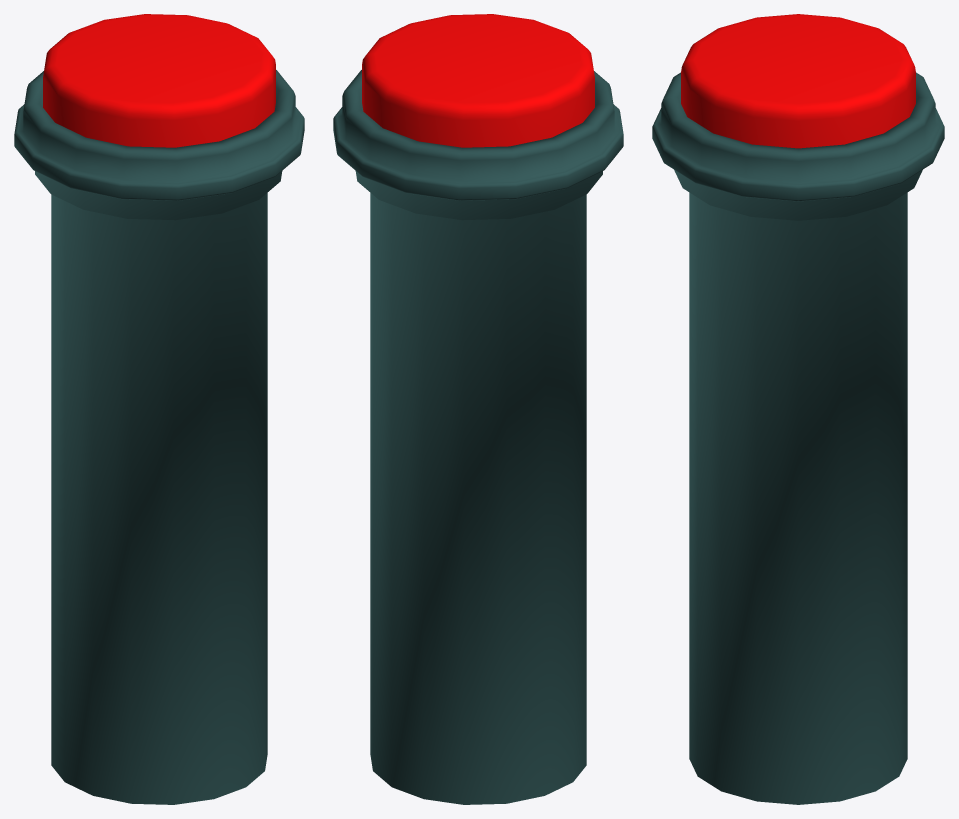
File: SM_Button.fbx
The picture shows the model from 3 angles, left to right: view 1: azimuth 30°, elevation 25°; view 2: azimuth 150°, elevation 25°; view 3: azimuth 270°, elevation 25°; orthographic projection.
Parts seen in each view (by area): view 1: Pedestal, Button; view 2: Pedestal, Button; view 3: Pedestal, Button.
Part boxes in pixels (x1,y1,x2,y2): Pedestal: [14, 70, 304, 804]; Button: [43, 14, 275, 147]; Pedestal: [333, 70, 623, 804]; Button: [362, 14, 594, 147]; Pedestal: [652, 72, 944, 804]; Button: [681, 14, 915, 148].
Size of the model in its own units: 44.88 by 118 by 44.88.
